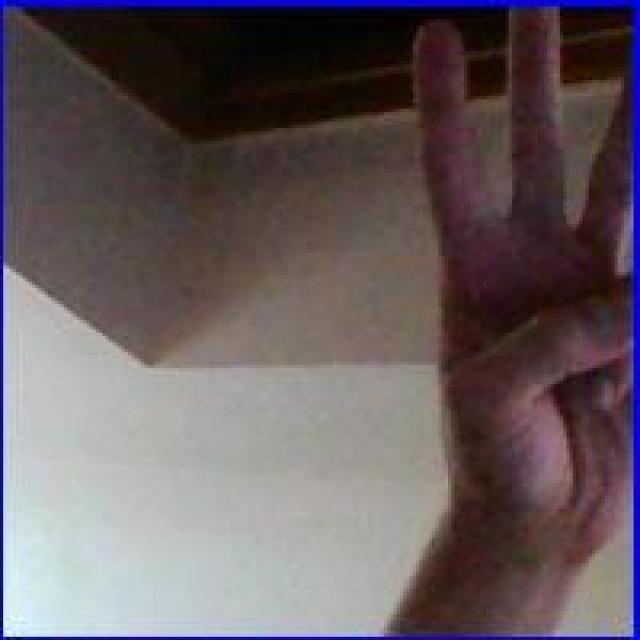W: (405, 10, 629, 563)
